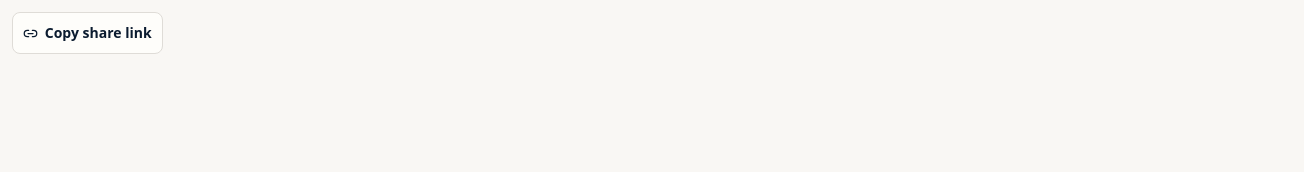
explains clipboard failure and focuses the share link for manual copying
The width and height of the screenshot is (1304, 172).
Click the button "Copy share link".
click(88, 33)  # box [12, 12, 163, 54]
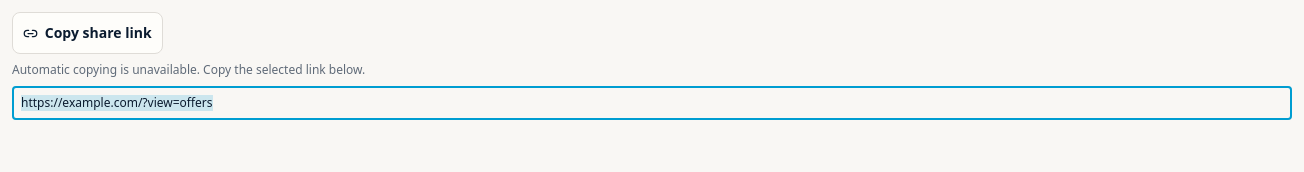
expect the field named "Share link" holds "https://example.com/?view=offers": met, box [12, 86, 1292, 120]
expect the text "Copy the selected link below" is shown: met, box [12, 61, 365, 78]
